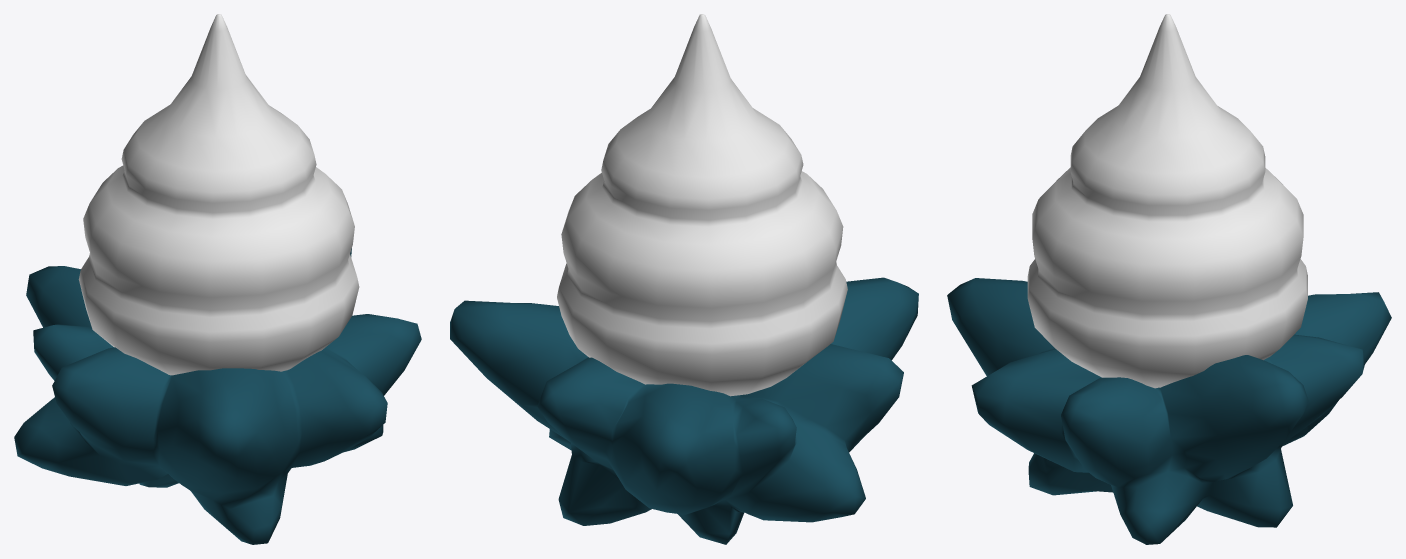
The model's file is hvs_farmables_goopium01.fbx.
The picture shows the model from 3 angles, left to right: view 1: azimuth 30°, elevation 25°; view 2: azimuth 150°, elevation 25°; view 3: azimuth 270°, elevation 25°; orthographic projection. The views are drawn at different scales.
Parts seen in each view (by area): view 1: Cylinder.006, Cylinder.007; view 2: Cylinder.006, Cylinder.007; view 3: Cylinder.006, Cylinder.007.
Part boxes in pixels (<box>): Cylinder.006: <box>78,14,359,375</box>; Cylinder.007: <box>14,248,421,544</box>; Cylinder.006: <box>557,14,847,396</box>; Cylinder.007: <box>450,277,918,544</box>; Cylinder.006: <box>1027,14,1307,388</box>; Cylinder.007: <box>947,278,1391,544</box>.
Bounding box in the file's own units: 6.3 × 7.95 × 6.57.
